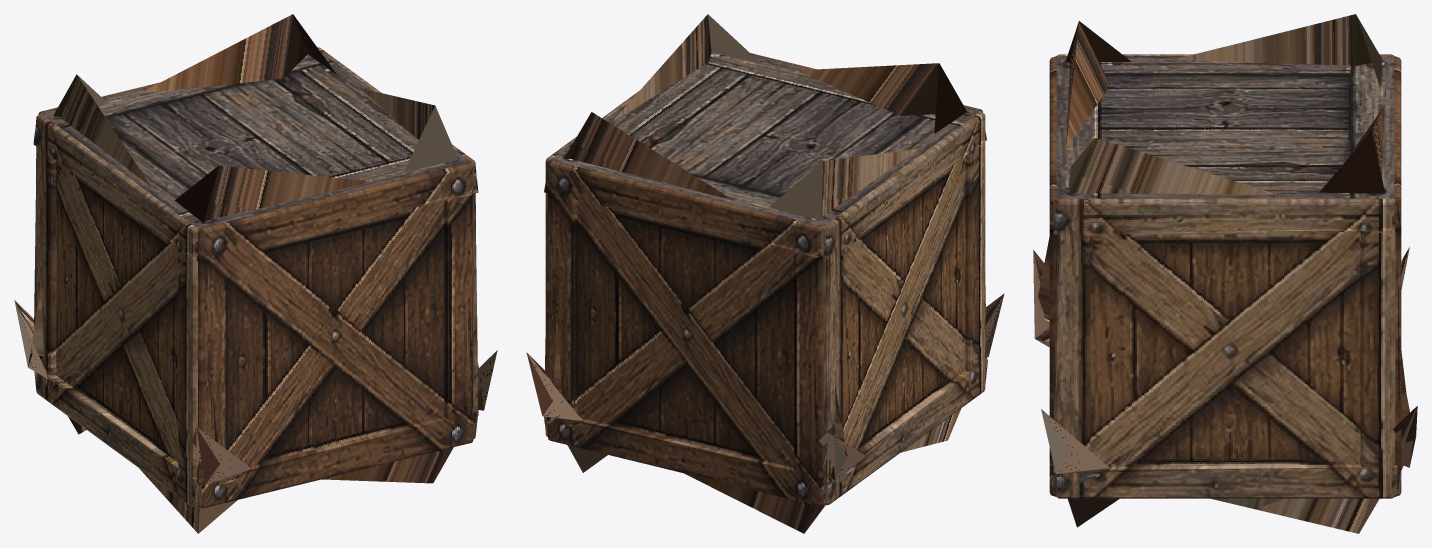
The model's file is crate_braced.glb.
3 renders of one model, left to right at view 1: azimuth 30°, elevation 25°; view 2: azimuth 150°, elevation 25°; view 3: azimuth 270°, elevation 25°, orthographic. The views are drawn at different scales.
Visible parts, largest first — view 1: body, piece_00, piece_02, piece_04, piece_01, piece_11, piece_05, piece_10, piece_08; view 2: body, piece_00, piece_02, piece_04, piece_05, piece_01, piece_10, piece_03, piece_09, piece_11; view 3: body, piece_01, piece_09, piece_03, piece_08, piece_00, piece_05, piece_02, piece_04.
Boxes of the visible parts, box(x1,y1,x2,y2) form: body: box(33, 47, 478, 508); piece_00: box(17, 312, 497, 533); piece_02: box(105, 132, 332, 327); piece_04: box(33, 74, 238, 244); piece_01: box(241, 91, 478, 274); piece_11: box(110, 255, 334, 416); piece_05: box(177, 14, 376, 131); piece_10: box(14, 197, 110, 356); piece_08: box(333, 226, 477, 361); body: box(544, 52, 987, 505); piece_00: box(674, 293, 1004, 533); piece_02: box(762, 63, 986, 236); piece_04: box(687, 144, 898, 306); piece_05: box(545, 106, 760, 256); piece_01: box(613, 14, 845, 143); piece_10: box(681, 257, 873, 435); piece_03: box(526, 348, 680, 472); piece_09: box(545, 207, 687, 383); piece_11: box(928, 211, 985, 314); body: box(1049, 54, 1401, 498); piece_01: box(1049, 106, 1251, 271); piece_09: box(1252, 248, 1406, 400); piece_03: box(1254, 392, 1417, 533); piece_08: box(1049, 258, 1253, 392); piece_00: box(1033, 250, 1406, 527); piece_05: box(1247, 112, 1401, 257); piece_02: box(1049, 21, 1246, 124); piece_04: box(1243, 14, 1401, 127).
Bounding box in the file's own units: 0.9103 × 1.03 × 0.9103.
Materials: 1 (1 with a texture image).
